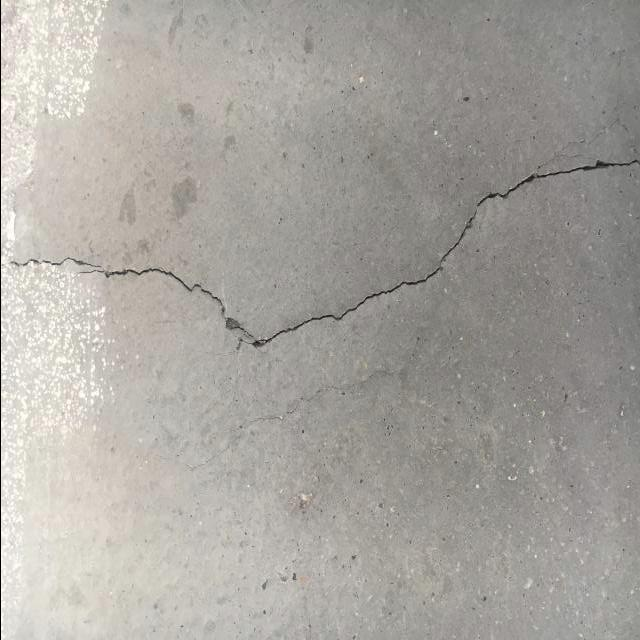SurfaceCrack: (1, 131, 640, 370)
